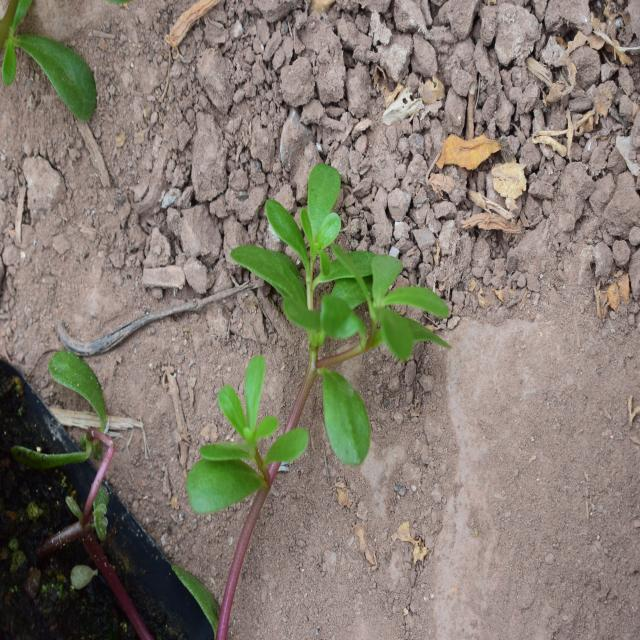purslane: (193, 158, 434, 562)
